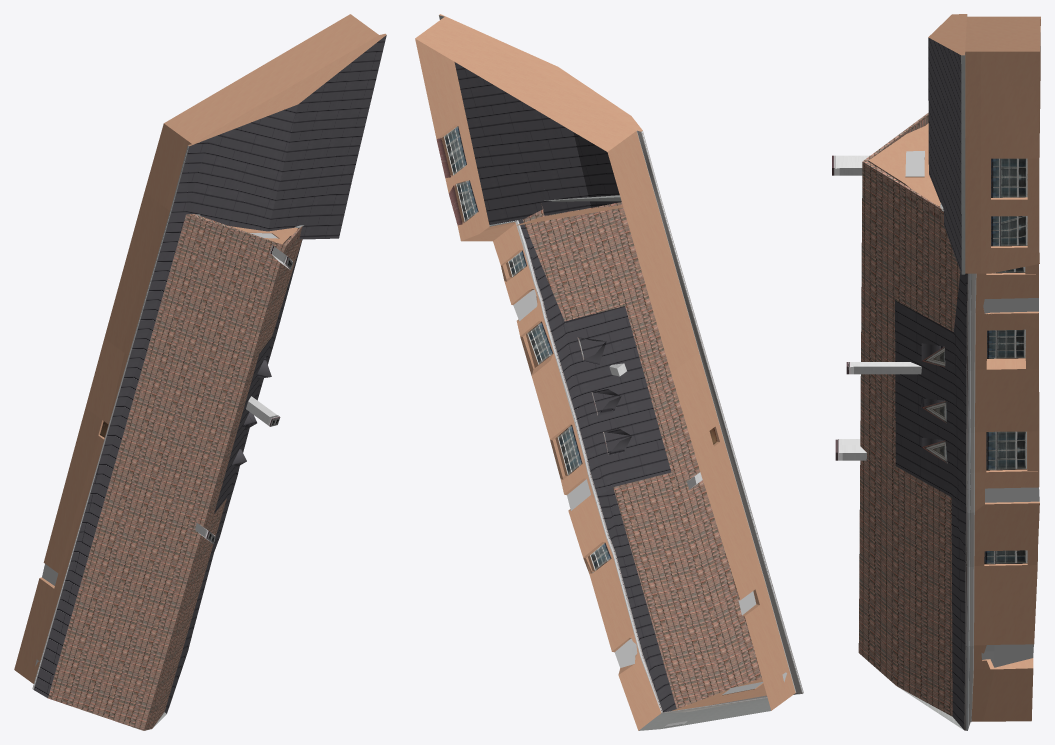
The model's file is Toom-Ryyti_8-origo.obj.
3 renders of one model, left to right at view 1: azimuth 30°, elevation 25°; view 2: azimuth 150°, elevation 25°; view 3: azimuth 270°, elevation 25°, orthographic. The views are drawn at different scales.
Parts seen in each view (by area): view 1: Toom_Ryyti_8; view 2: Toom_Ryyti_8; view 3: Toom_Ryyti_8.
Part boxes in pixels (x1=…): Toom_Ryyti_8: x1=14, y1=14, x2=386, y2=730; Toom_Ryyti_8: x1=415, y1=14, x2=803, y2=730; Toom_Ryyti_8: x1=832, y1=14, x2=1040, y2=730.
Size of the model in its own units: 25.88 by 44 by 10.23.
